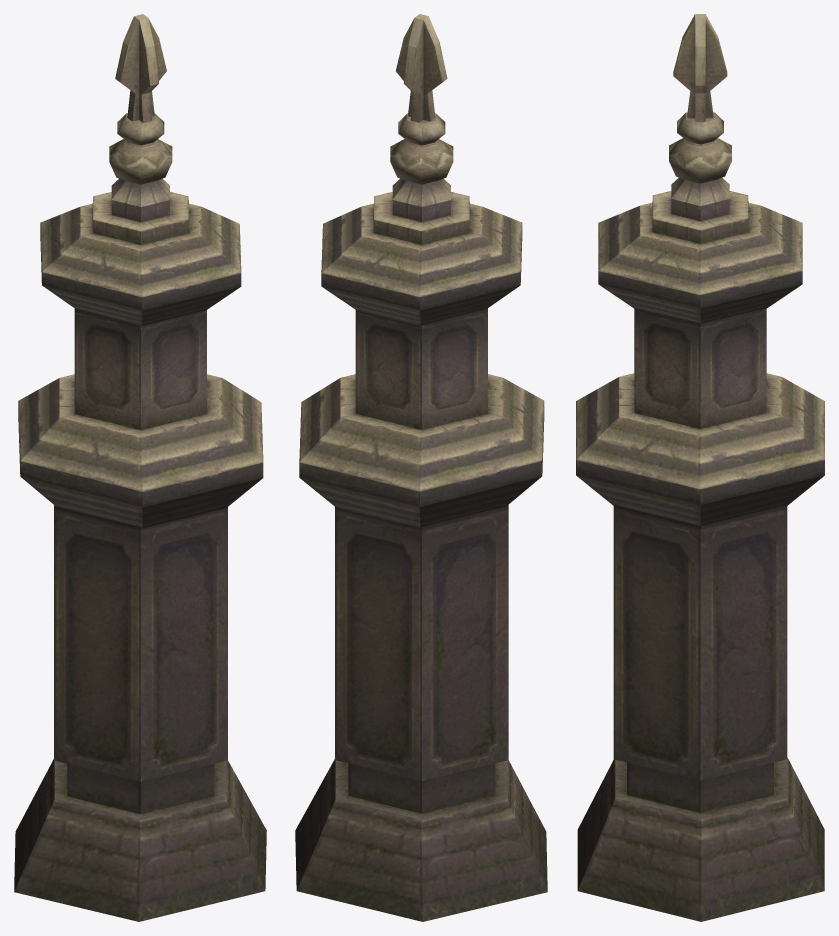
File: yw_shibalipo_fota02.FBX
The picture shows the model from 3 angles, left to right: view 1: azimuth 30°, elevation 25°; view 2: azimuth 150°, elevation 25°; view 3: azimuth 270°, elevation 25°; orthographic projection.
Visible parts, largest first — view 1: yw_shibalipo_fota02; view 2: yw_shibalipo_fota02; view 3: yw_shibalipo_fota02.
Boxes of the visible parts, <box> form: yw_shibalipo_fota02: <box>14,14,266,921</box>; yw_shibalipo_fota02: <box>295,14,547,921</box>; yw_shibalipo_fota02: <box>576,14,824,921</box>.
Size of the model in its own units: 132 by 422 by 113.
